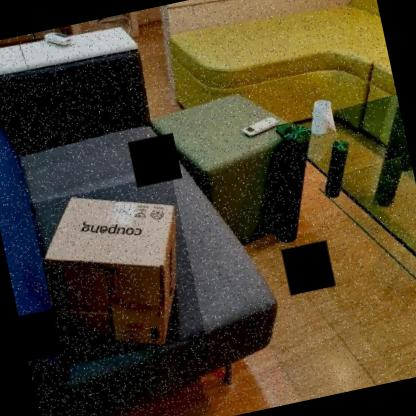box: (30, 173, 206, 366)
